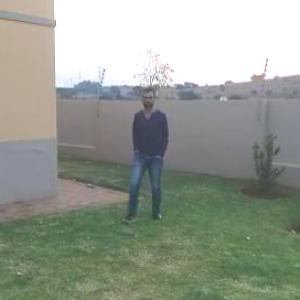follow: (127, 86, 171, 214)
